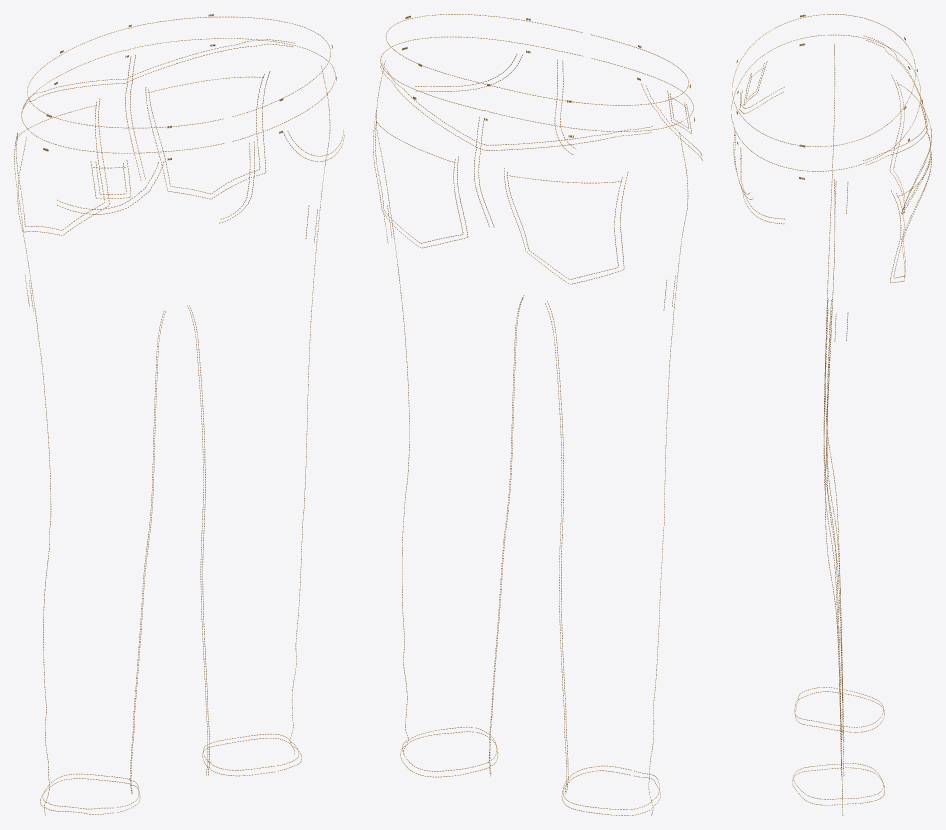
The model's file is 21_vaquero_skinny_costuras.glb.
The picture shows the model from 3 angles, left to right: view 1: azimuth 30°, elevation 25°; view 2: azimuth 150°, elevation 25°; view 3: azimuth 270°, elevation 25°; orthographic projection. The views are drawn at different scales.
Visible parts, largest first — view 1: stitch; view 2: stitch; view 3: stitch.
Boxes of the visible parts, x1,y1,x2,y2 form: stitch: (14, 14, 344, 815); stitch: (373, 14, 702, 815); stitch: (731, 14, 931, 815).
Bounding box in the file's own units: 0.4077 × 0.9125 × 0.2407.
